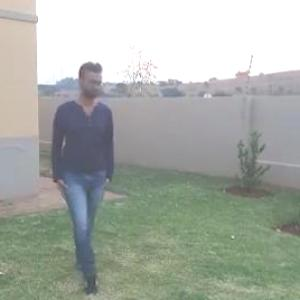follow: (50, 50, 136, 299)
